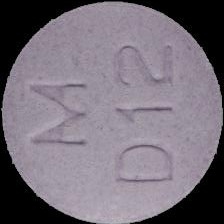0378-4028: (0, 0, 224, 224)
